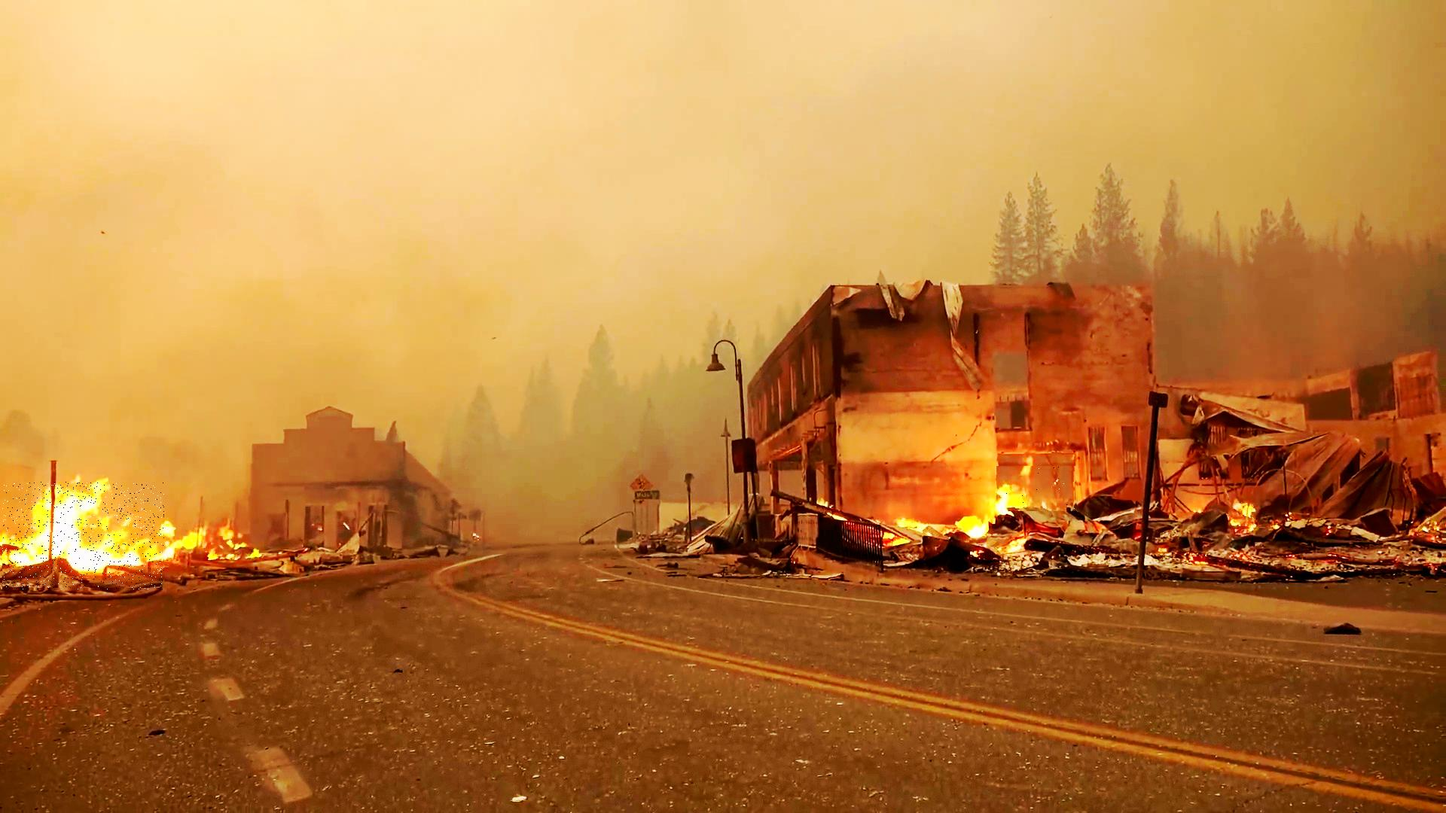fire: (2, 482, 164, 590), (995, 467, 1077, 513)
